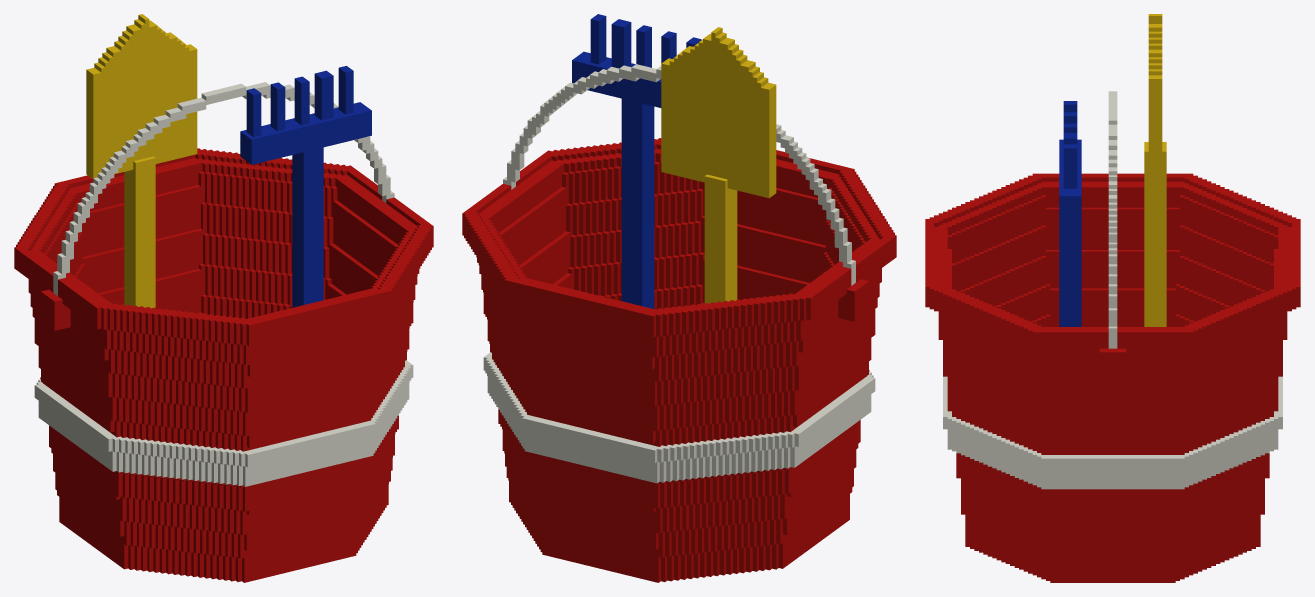
Rendered from sandbox_kit.glb.
3 views of the same model, side by side, from view 1: azimuth 30°, elevation 25°; view 2: azimuth 150°, elevation 25°; view 3: azimuth 270°, elevation 25° (orthographic). The views are drawn at different scales.
Visible parts, largest first — view 1: sandbox_kit:compound; view 2: sandbox_kit:compound; view 3: sandbox_kit:compound.
Boxes of the visible parts, box(x1,y1,x2,y2) form: sandbox_kit:compound: box(14, 14, 433, 582); sandbox_kit:compound: box(462, 14, 896, 582); sandbox_kit:compound: box(925, 14, 1300, 582).
Bounding box in the file's own units: 0.176 × 0.236 × 0.168.
